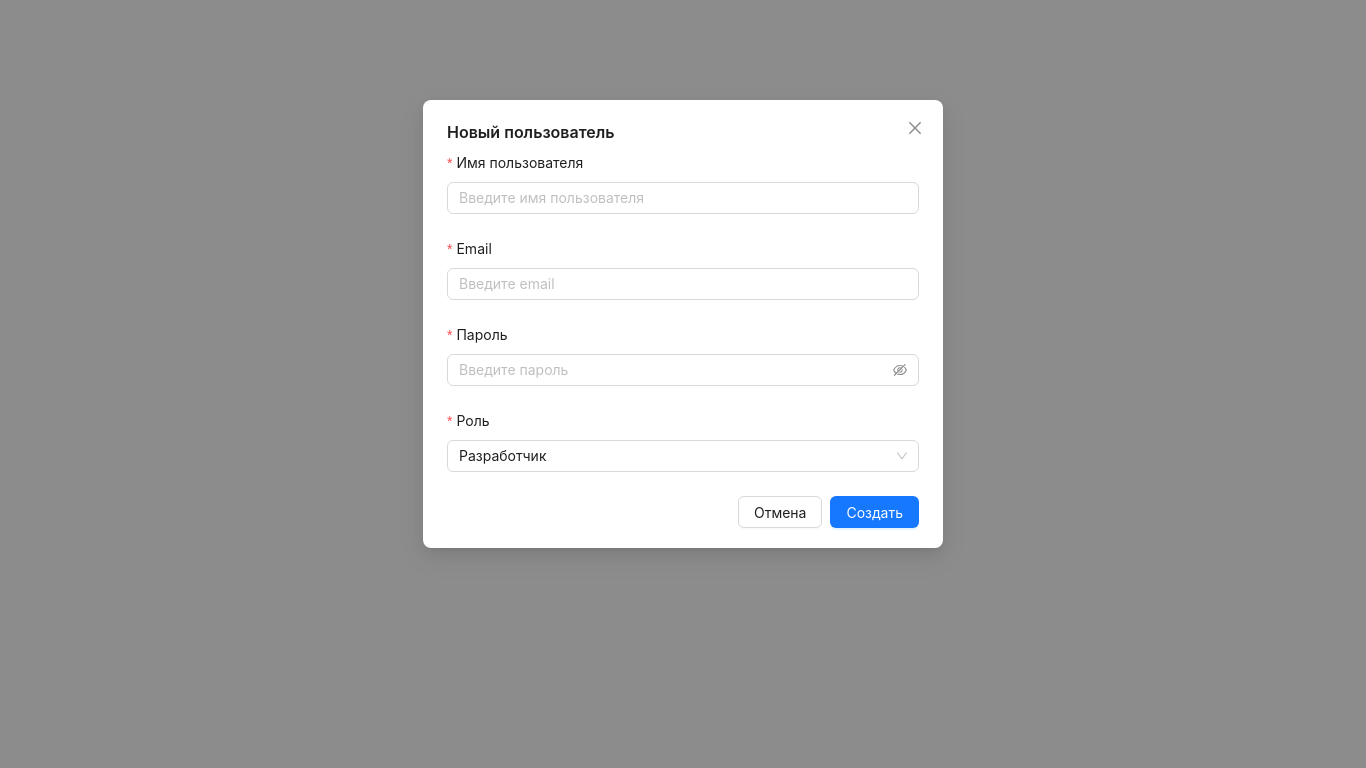
Test: UserFormModal › режим создания › валидирует формат email
The image size is (1366, 768).
Note: Заполняем имя пользователя и пароль
Type "newuser" into the field labelled "Имя пользователя" at (683,198), box [447, 182, 919, 214]
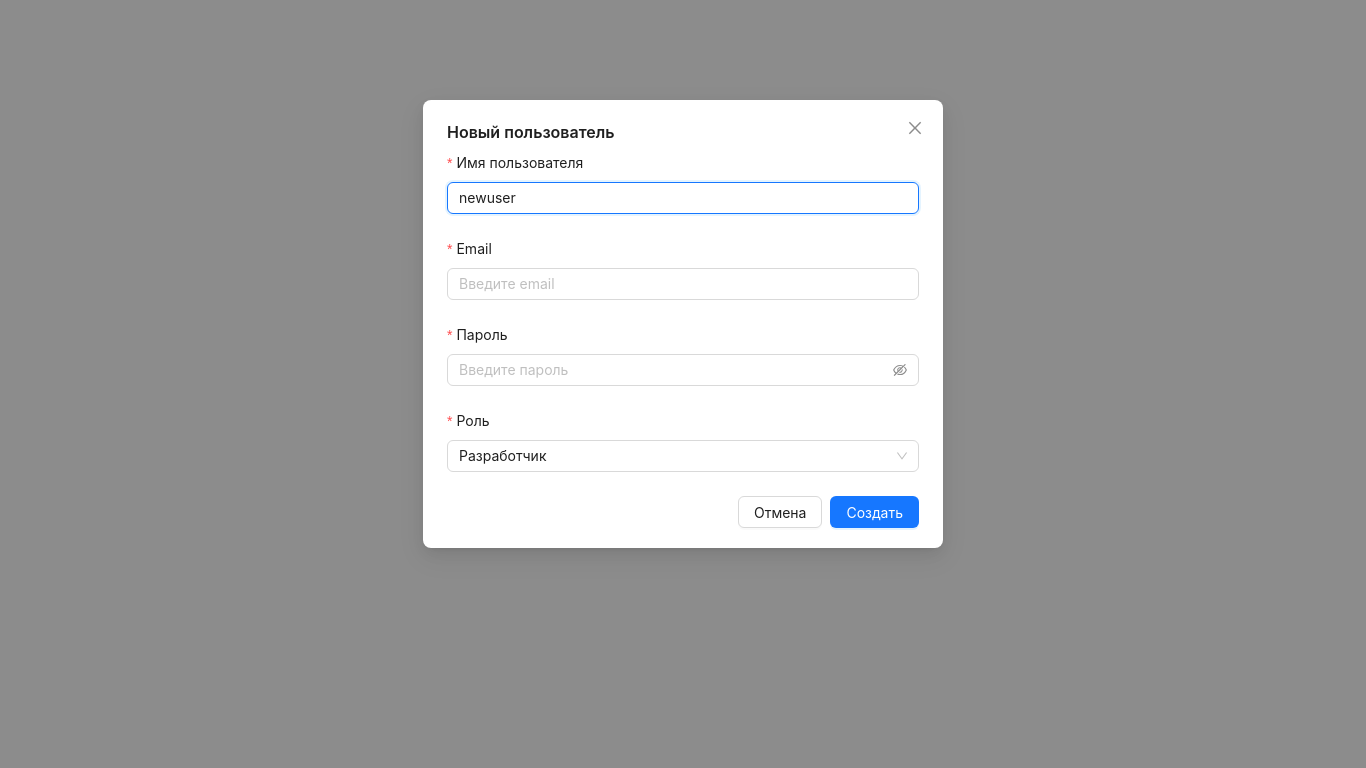
Type "password123" into the password field labelled "Пароль" at (674,370), box [459, 359, 889, 381]
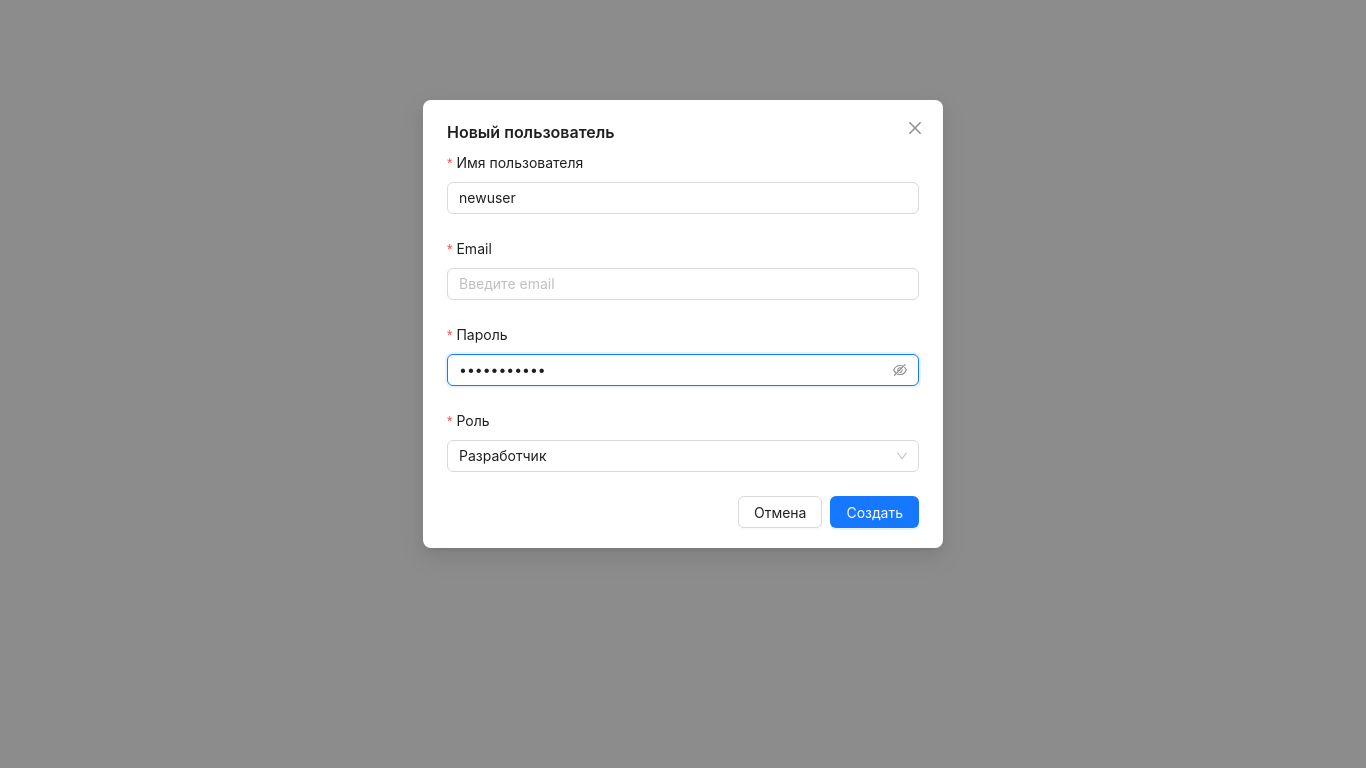
Note: Вводим некорректный email
Type "invalid-email" into the field labelled "Email" at (683,284), box [447, 268, 919, 300]
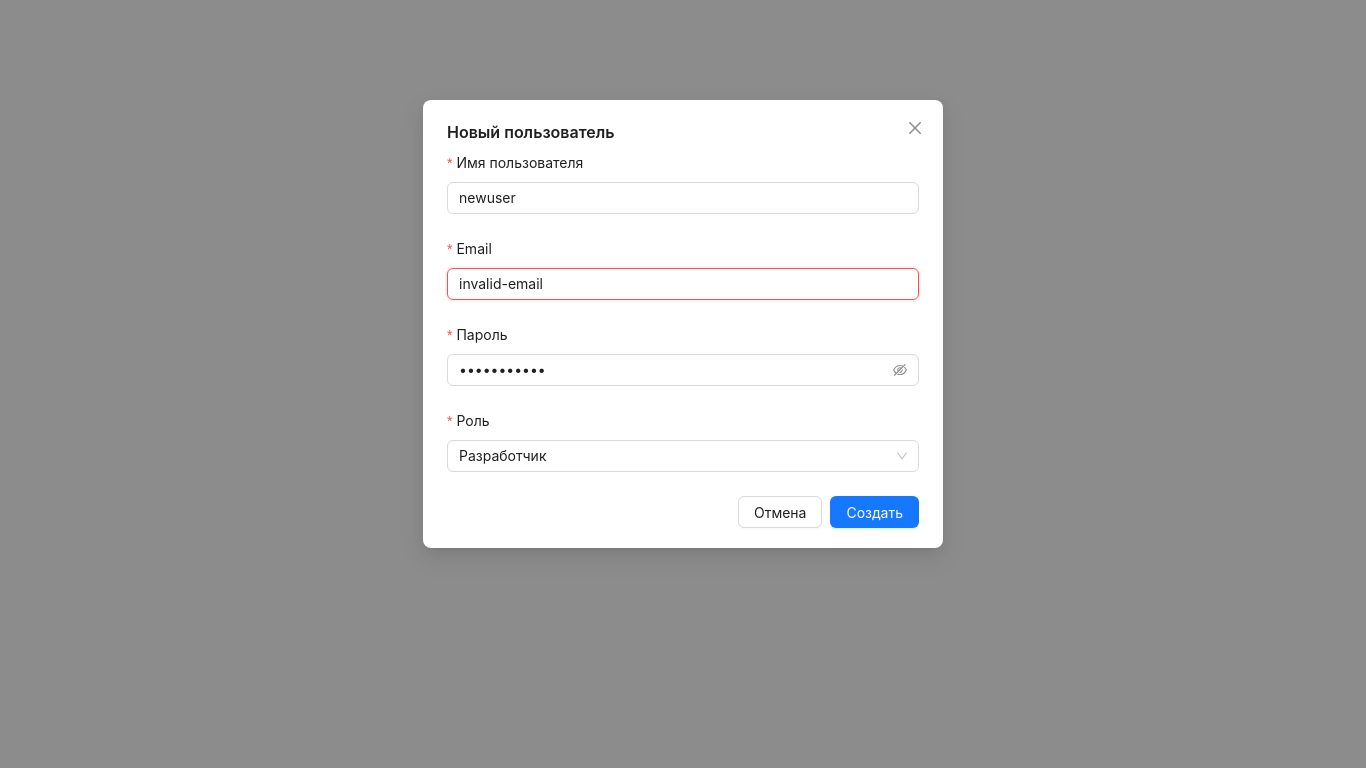
Note: Кликаем Создать
Click the button "Создать" at (875,512), box [830, 496, 919, 528]
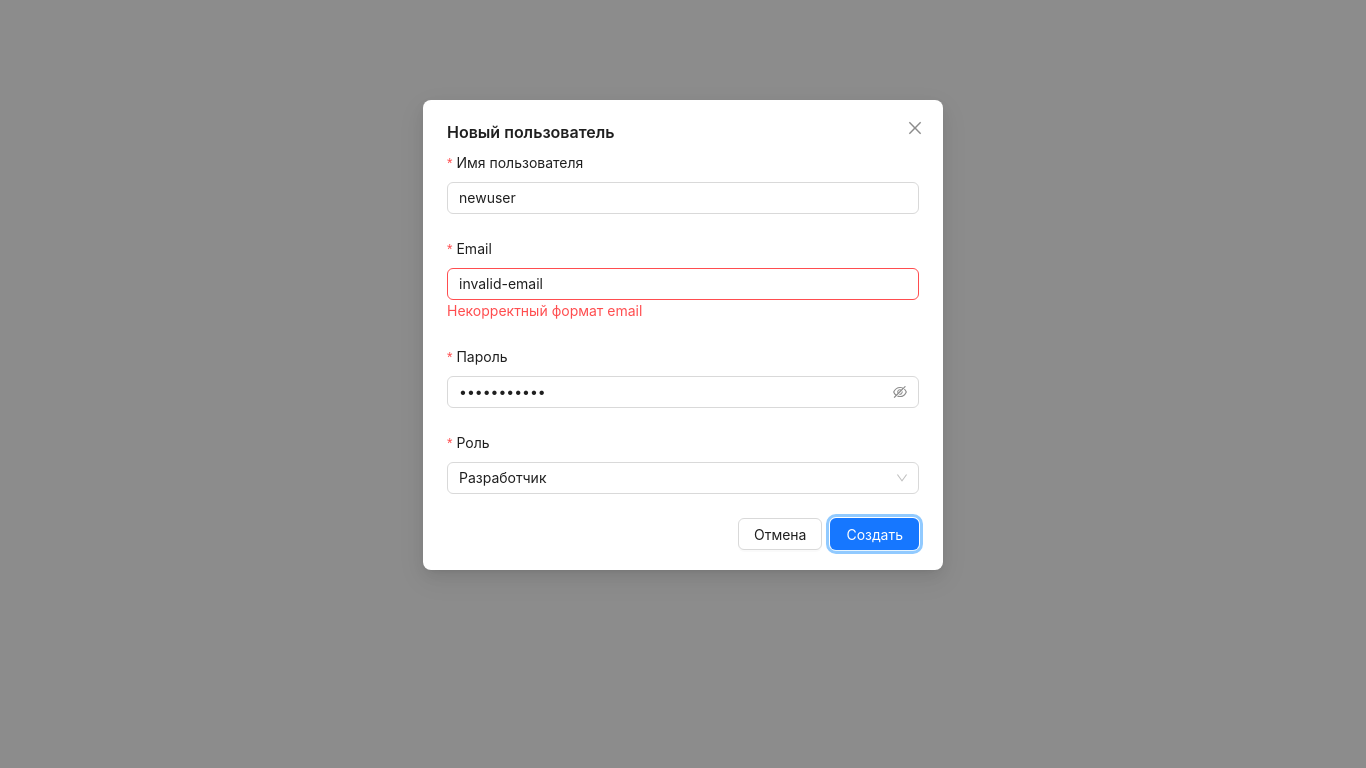
Now the text "Некорректный формат email" is shown, box [447, 302, 642, 319]
